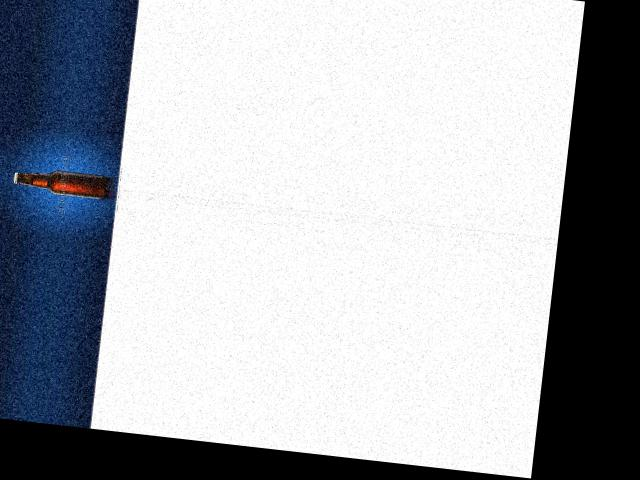beer: (12, 165, 108, 199)
